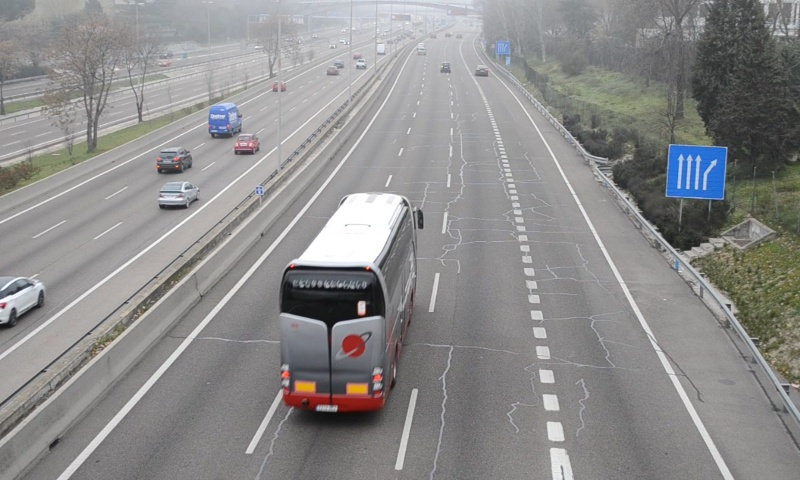bus: (278, 192, 416, 413)
car: (475, 64, 489, 77), (439, 61, 452, 74)
